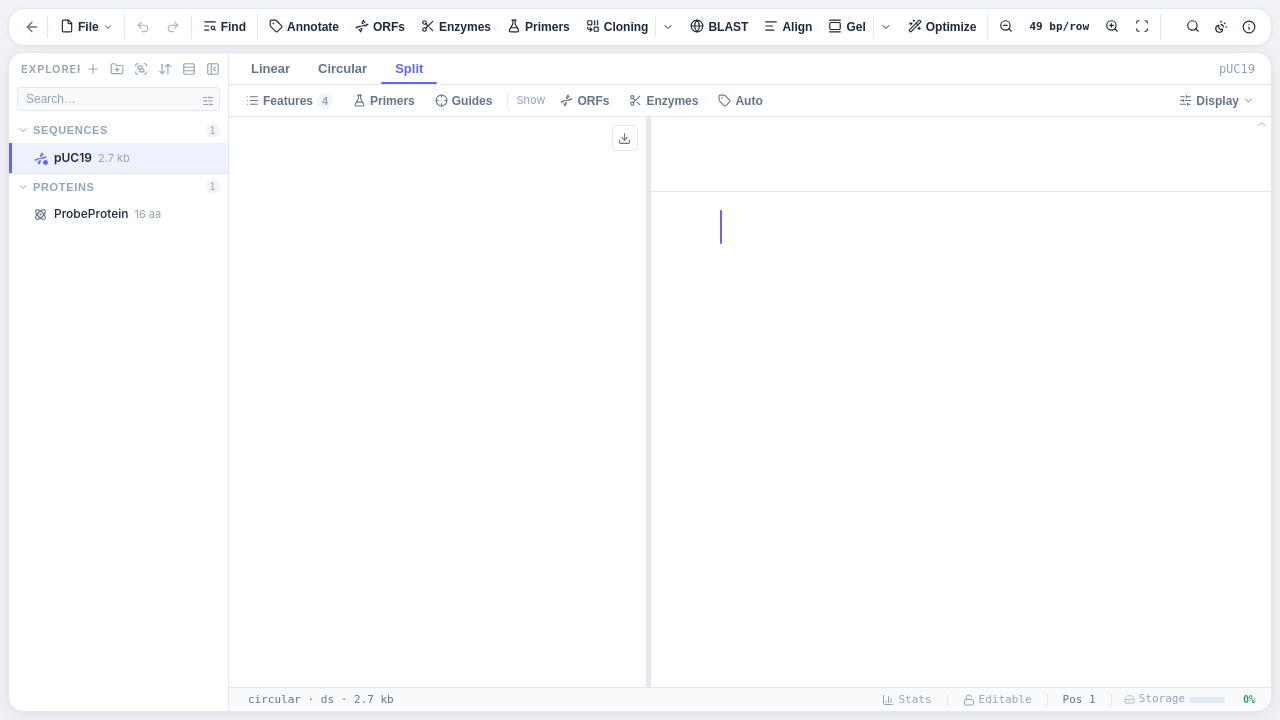
it: Export from the explorer › opens the export dialog for a protein instead of crashing
Step 1. Right-click the text "ProbeProtein" → (91, 214), box [54,205,128,223]
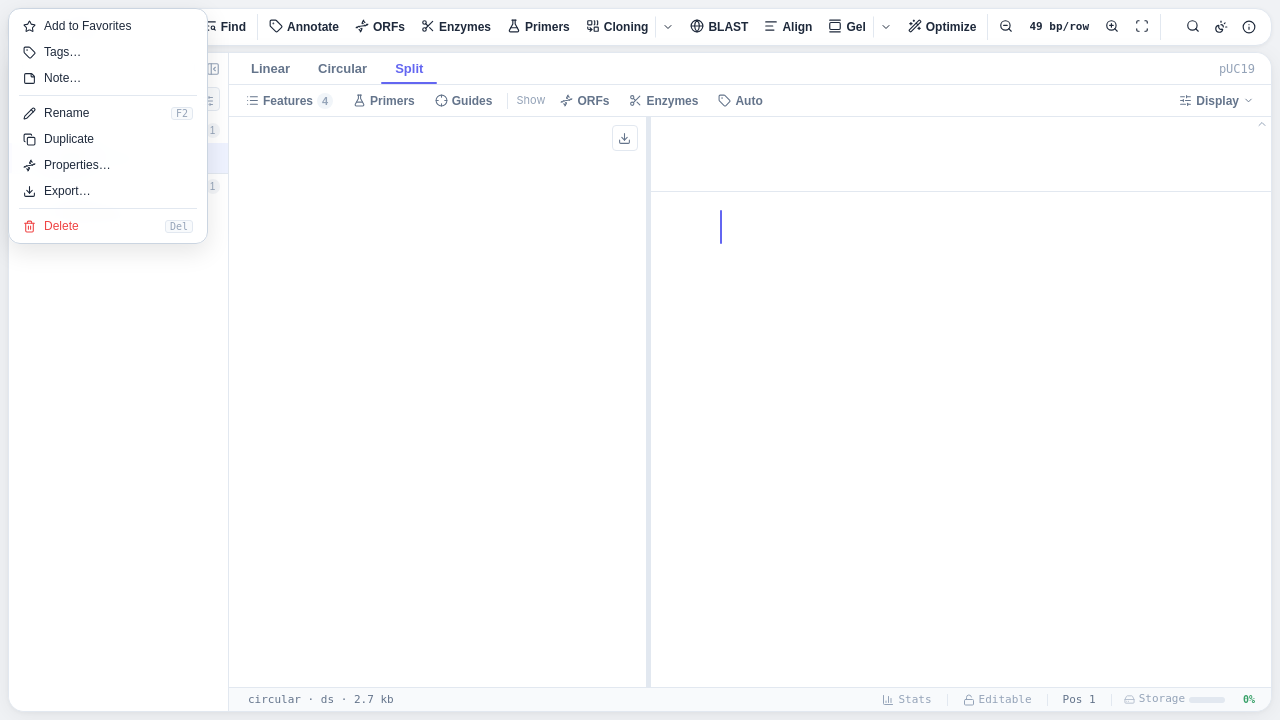
Step 2. Click the button "Export…" → click(108, 191), box [9,178,207,204]
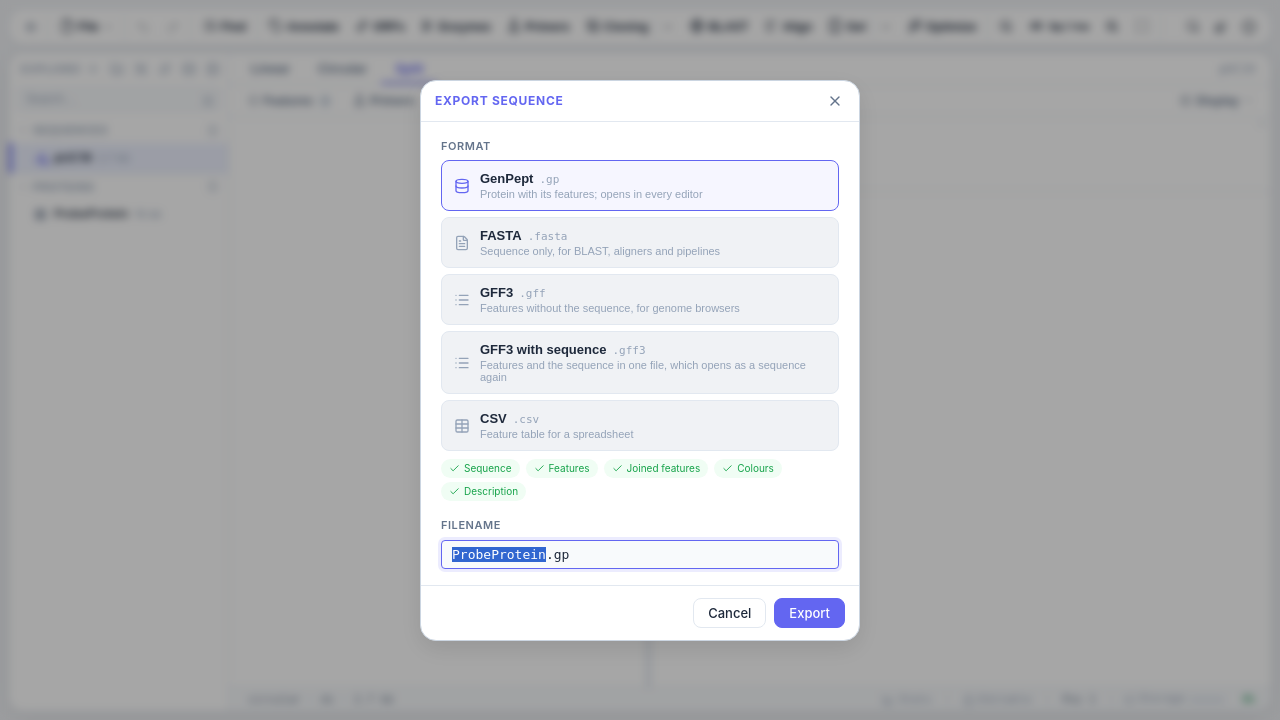
Result: the dialog "Export Sequence" is shown at [420,80,860,640]
Result: the text "GenPept .gp" is shown at [480,171,559,186]
